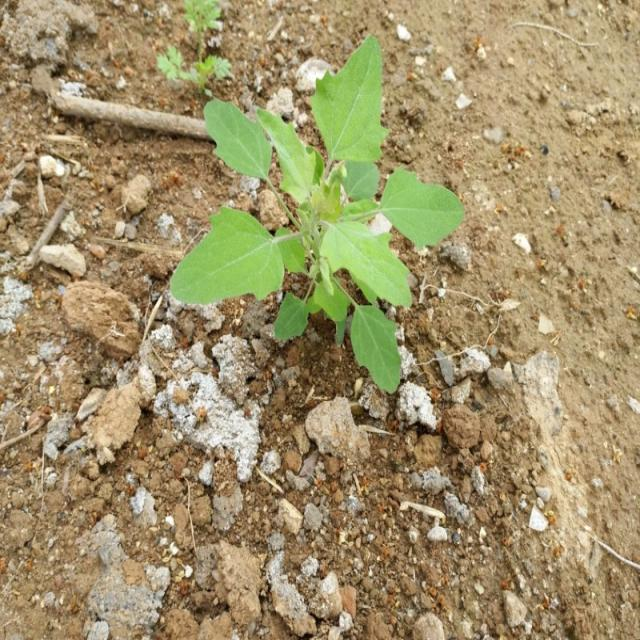ca: (177, 96, 411, 391)
